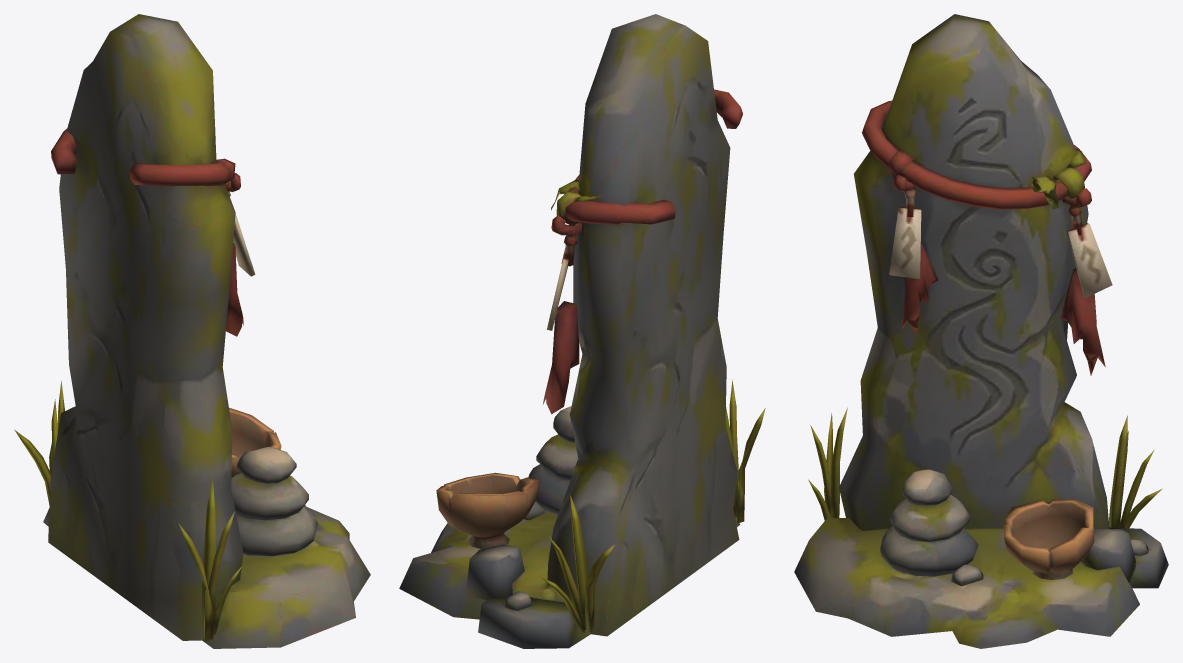
Rendered from ninebend_shrine_stone.glb.
3 renders of one model, left to right at view 1: azimuth 30°, elevation 25°; view 2: azimuth 150°, elevation 25°; view 3: azimuth 270°, elevation 25°, orthographic. The views are drawn at different scales.
Parts seen in each view (by area): view 1: tripo_node_e0bed648-11b6-4f3e-8780-56cdfe2e5c98; view 2: tripo_node_e0bed648-11b6-4f3e-8780-56cdfe2e5c98; view 3: tripo_node_e0bed648-11b6-4f3e-8780-56cdfe2e5c98.
Part boxes in pixels (x1,y1,x2,y2): tripo_node_e0bed648-11b6-4f3e-8780-56cdfe2e5c98: (14, 14, 370, 648); tripo_node_e0bed648-11b6-4f3e-8780-56cdfe2e5c98: (399, 14, 765, 648); tripo_node_e0bed648-11b6-4f3e-8780-56cdfe2e5c98: (794, 14, 1168, 648).
Size of the model in its own units: 0.9332 by 1.9 by 1.22.
Materials: 1 (1 with a texture image).
